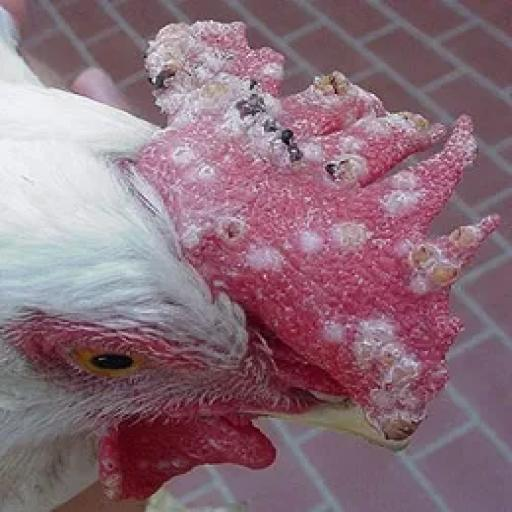disease: (133, 25, 497, 448), (95, 425, 196, 507)
